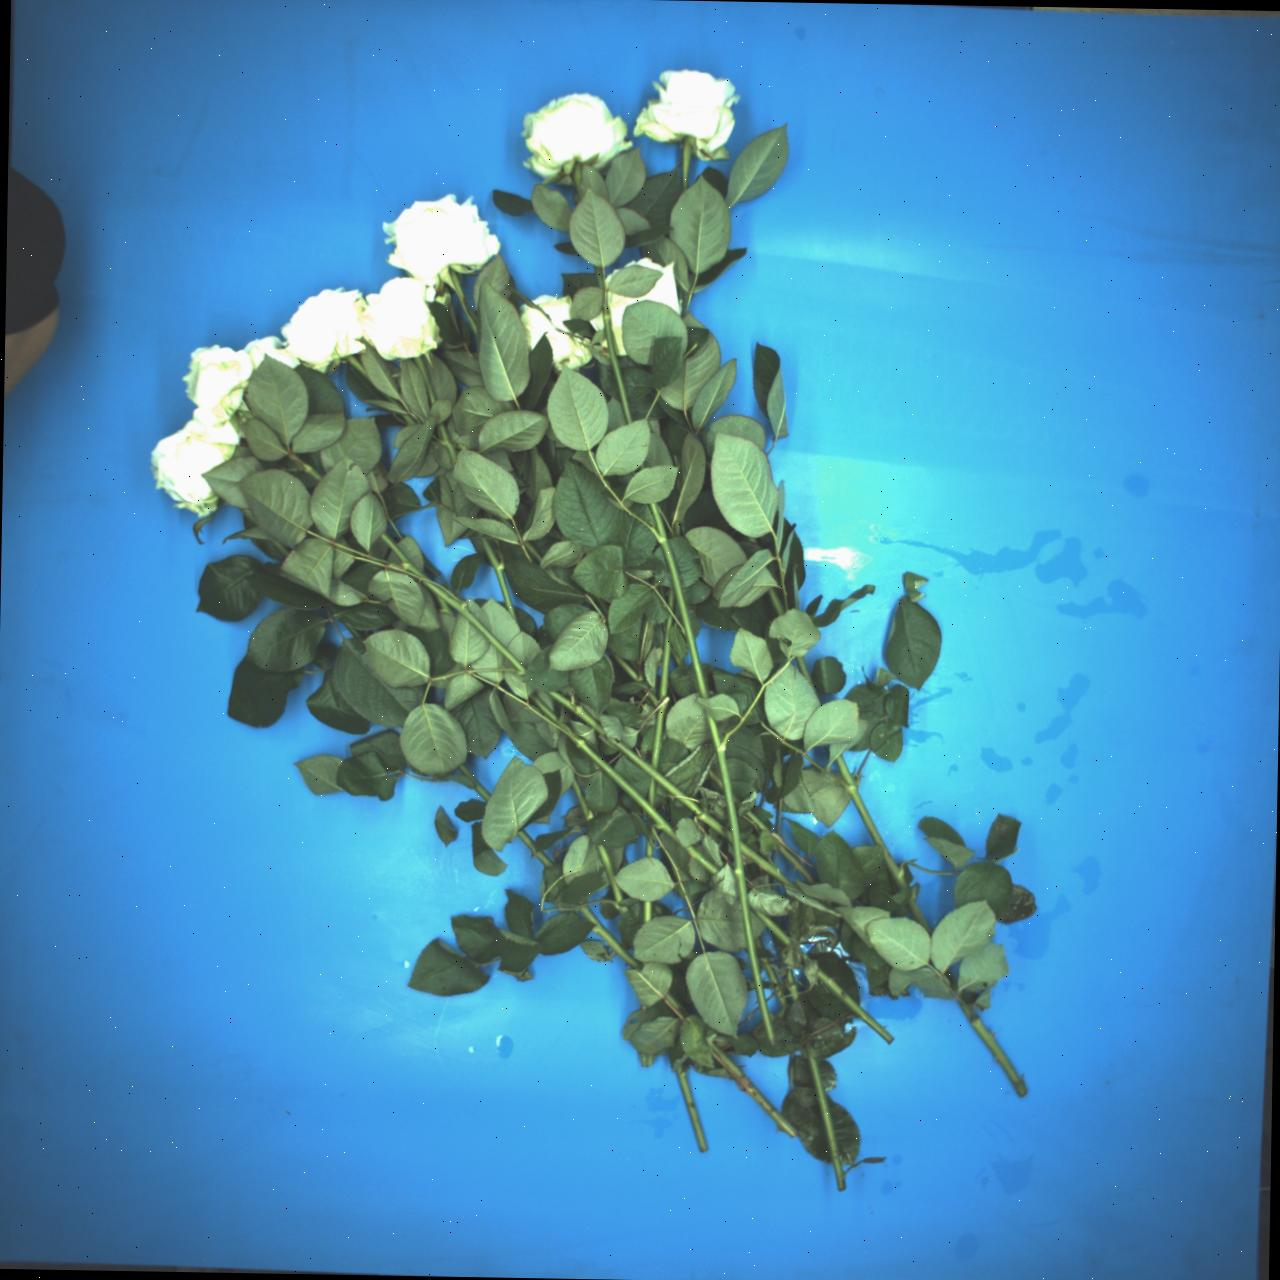Stem: (545, 681, 736, 847), (369, 532, 536, 678), (527, 692, 683, 844), (707, 714, 778, 1046), (648, 502, 712, 700), (830, 755, 912, 891), (700, 1036, 801, 1139), (956, 998, 1029, 1097), (813, 968, 896, 1046), (806, 1051, 846, 1191), (574, 903, 645, 976), (651, 587, 676, 770), (599, 305, 633, 425), (476, 527, 517, 625), (735, 840, 801, 896), (675, 1064, 709, 1152), (754, 938, 788, 1007), (450, 273, 483, 335), (594, 843, 626, 904), (775, 842, 817, 887), (515, 828, 554, 870), (751, 905, 791, 945), (605, 646, 644, 685), (456, 763, 493, 803), (413, 355, 438, 409), (683, 844, 720, 877), (435, 423, 461, 467), (286, 452, 324, 482), (795, 654, 818, 700), (570, 777, 594, 821), (906, 901, 933, 937), (347, 354, 373, 382), (663, 993, 689, 1020), (493, 510, 518, 537), (745, 810, 770, 836), (783, 966, 799, 1002), (768, 586, 784, 617), (522, 542, 544, 564), (641, 686, 662, 708), (706, 768, 727, 790), (682, 143, 692, 192), (343, 619, 362, 641), (572, 163, 583, 202), (645, 813, 654, 857), (270, 538, 290, 558), (647, 778, 658, 809), (594, 265, 607, 290), (597, 595, 612, 615), (670, 646, 685, 667), (401, 411, 417, 428), (546, 566, 561, 580), (642, 903, 652, 925), (640, 1053, 648, 1068), (674, 522, 681, 537)
flower: (369, 175, 506, 309), (136, 399, 247, 524), (509, 80, 635, 188), (632, 53, 750, 168), (271, 273, 387, 383), (583, 245, 697, 355), (350, 270, 445, 370), (513, 285, 599, 383), (172, 333, 260, 427), (239, 333, 297, 372)
